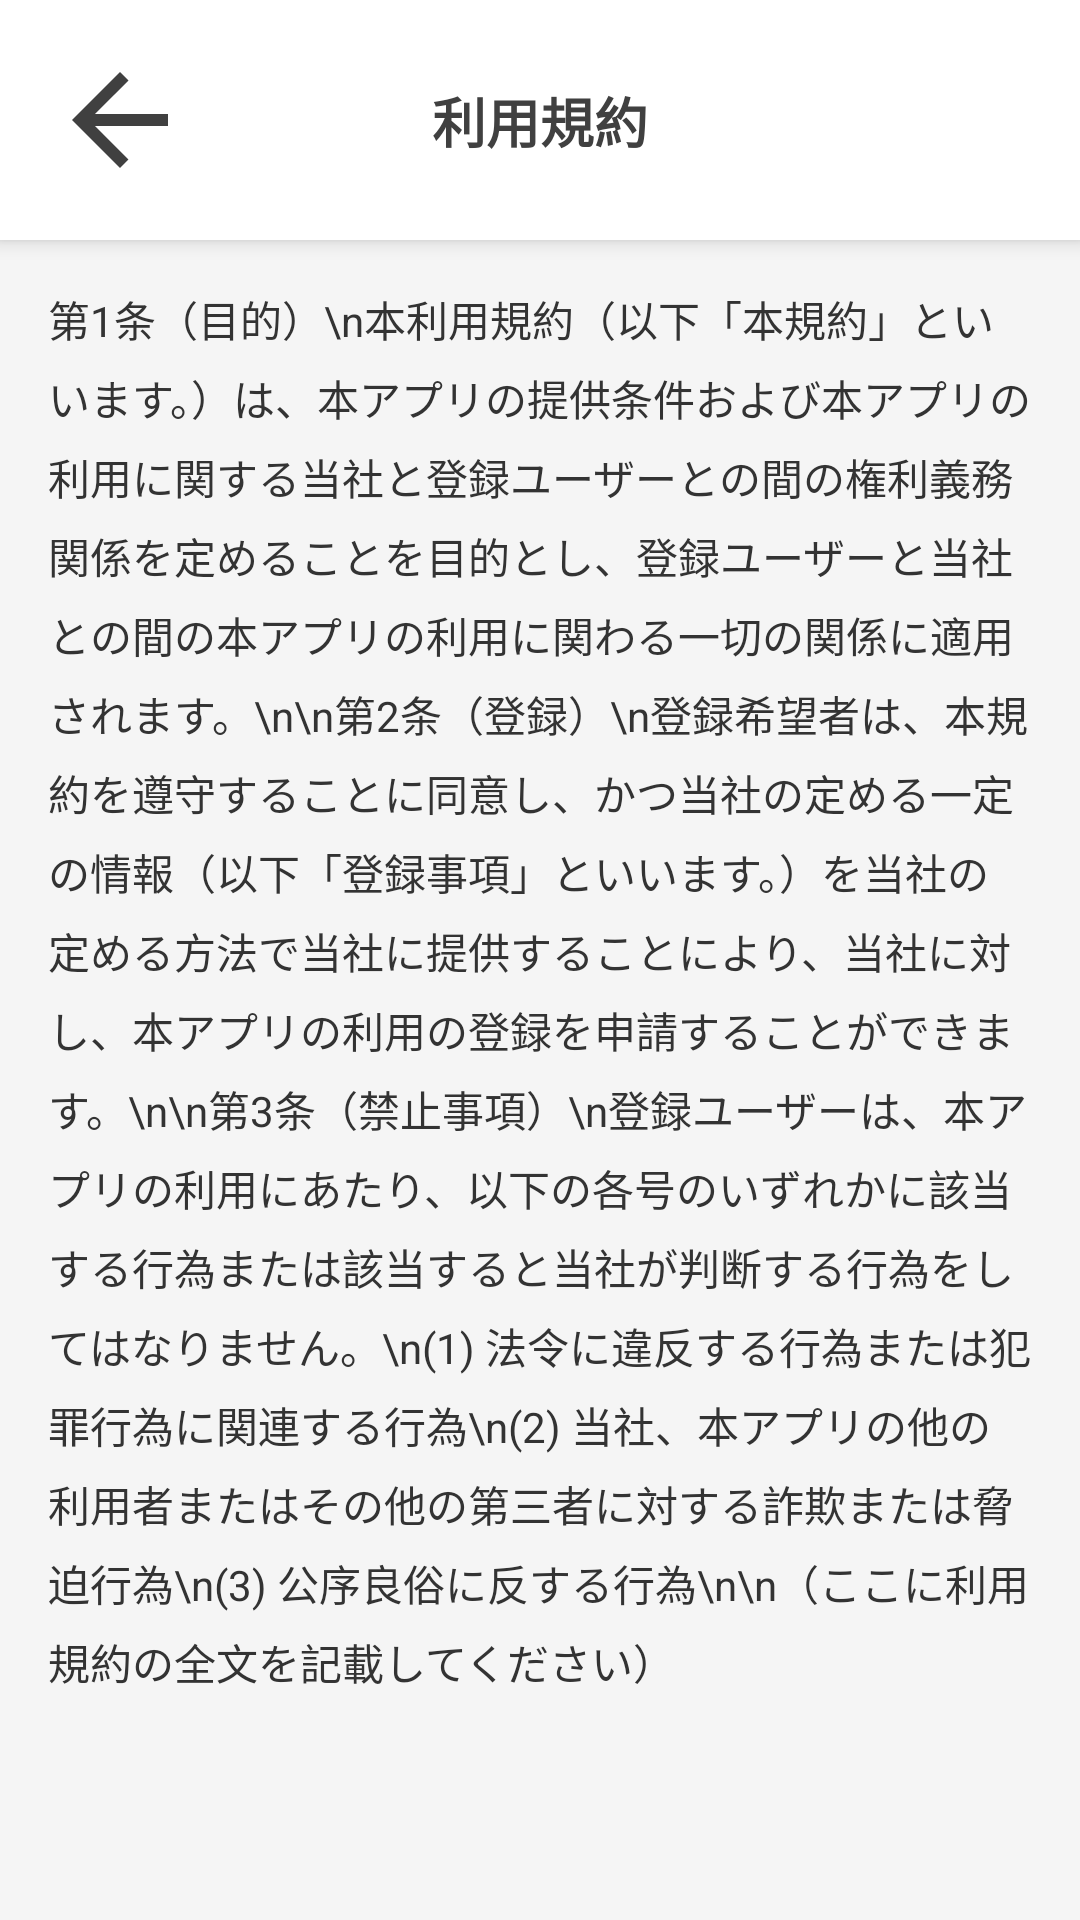

Named icons in this screenshot (1080 x 1920) and their centers, [x,y]:
arrow back: [120,120]
